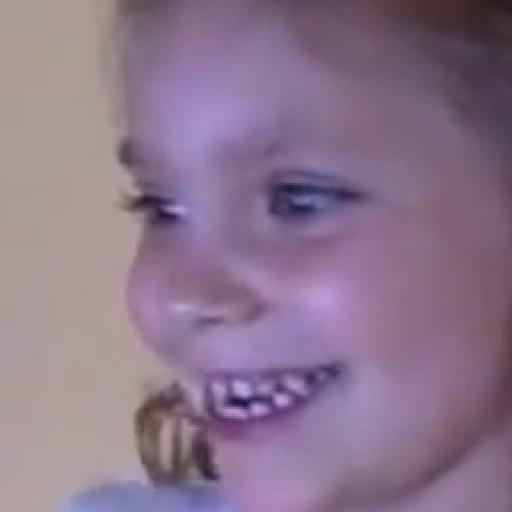Autism: (31, 30, 512, 496)
